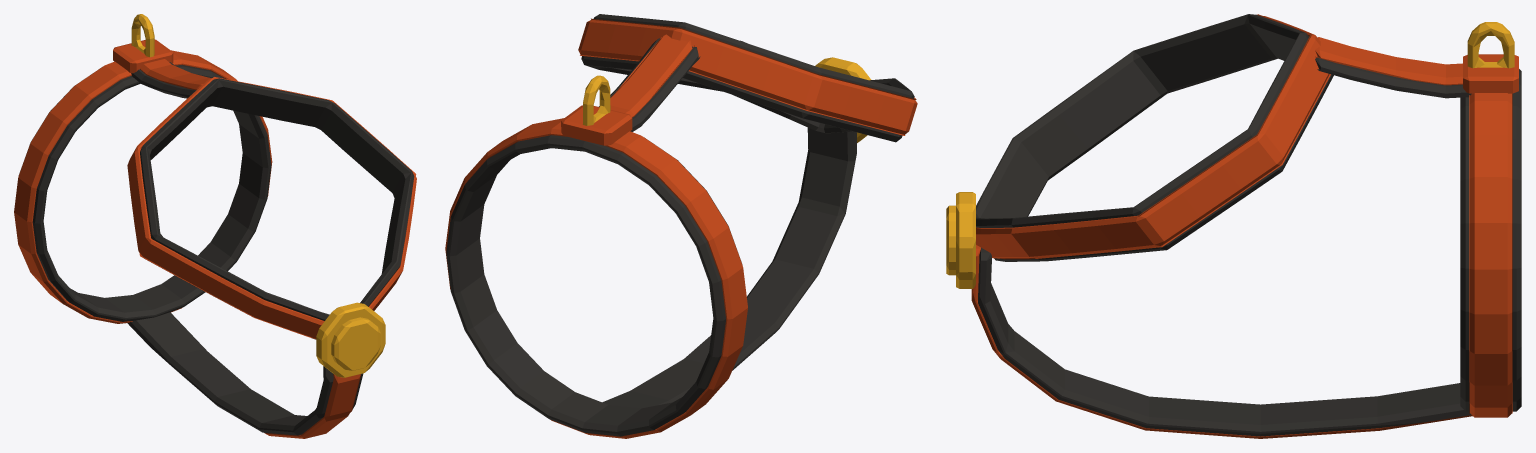
Rendered from Dog_Harness.fbx.
3 renders of one model, left to right at view 1: azimuth 30°, elevation 25°; view 2: azimuth 150°, elevation 25°; view 3: azimuth 270°, elevation 25°, orthographic. The views are drawn at different scales.
Visible parts, largest first — view 1: HRN_BuckleFace; view 2: HRN_BuckleFace; view 3: HRN_BuckleFace.
Part boxes in pixels (x1=…): HRN_BuckleFace: x1=14, y1=14, x2=416, y2=438; HRN_BuckleFace: x1=445, y1=14, x2=917, y2=438; HRN_BuckleFace: x1=946, y1=14, x2=1521, y2=438.
Size of the model in its own units: 0.4334 by 0.4998 by 0.637.
